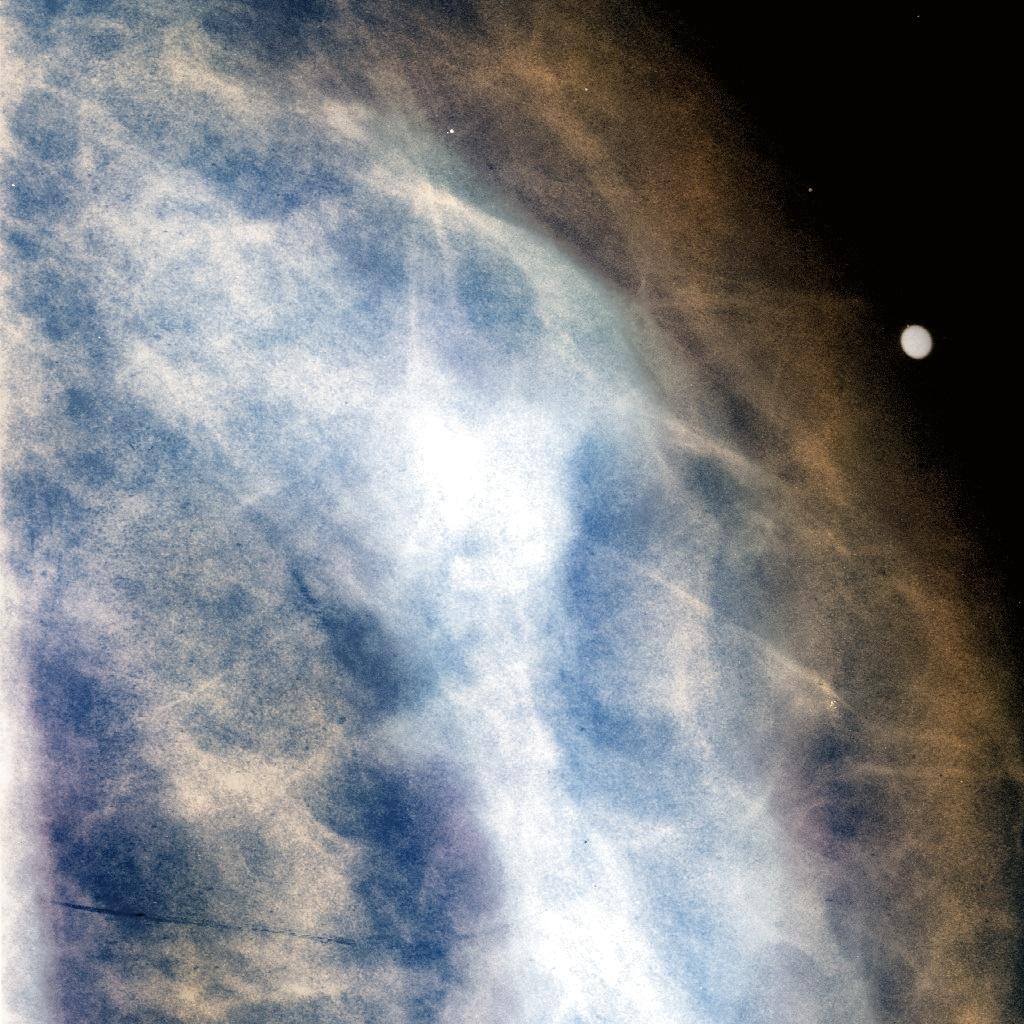tumor: (315, 360, 613, 664)
